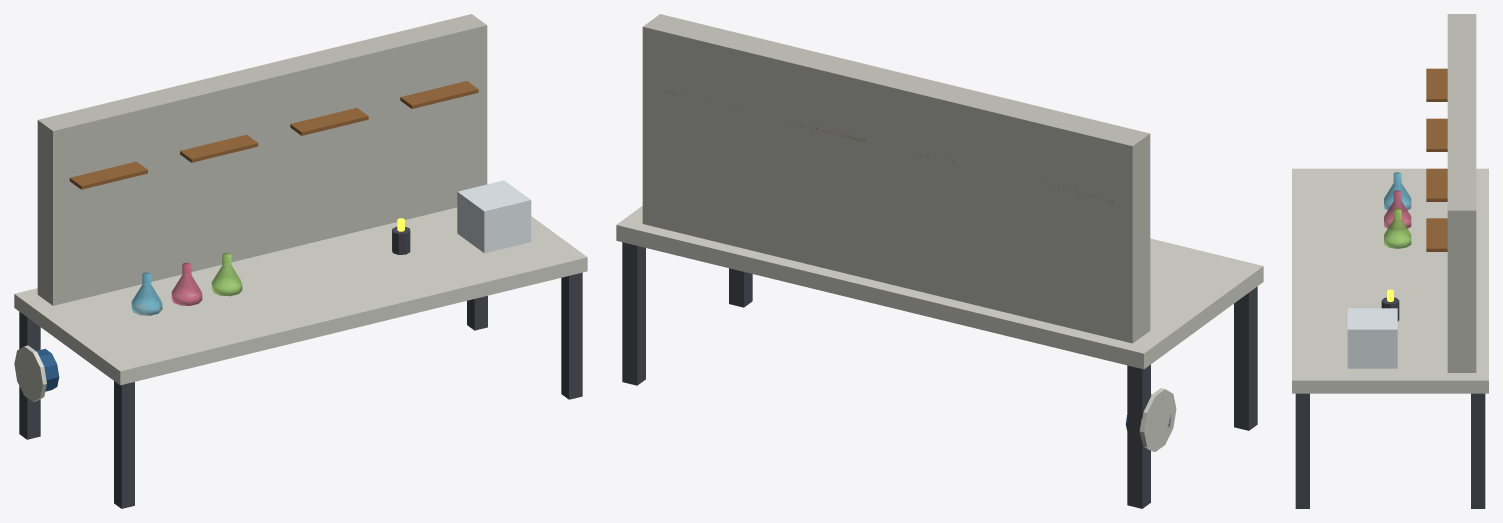
Rendered from CC_ChemistryBench.fbx.
3 views of the same model, side by side, from view 1: azimuth 30°, elevation 25°; view 2: azimuth 150°, elevation 25°; view 3: azimuth 270°, elevation 25° (orthographic). The views are drawn at different scales.
Parts seen in each view (by area): view 1: ChemistryBench_Body; view 2: ChemistryBench_Body; view 3: ChemistryBench_Body.
Boxes of the visible parts, <box> form: ChemistryBench_Body: <box>14,14,587,508</box>; ChemistryBench_Body: <box>616,14,1263,508</box>; ChemistryBench_Body: <box>1292,14,1488,508</box>.
Bounding box in the file's own units: 1.4 × 0.9 × 0.55.
